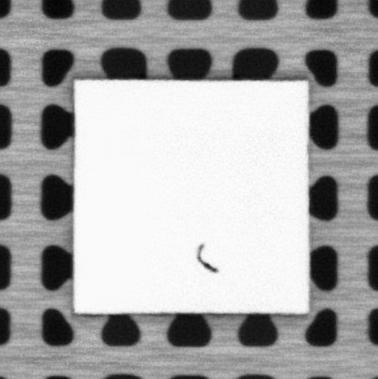DIE_INK: (195, 243, 219, 275)
